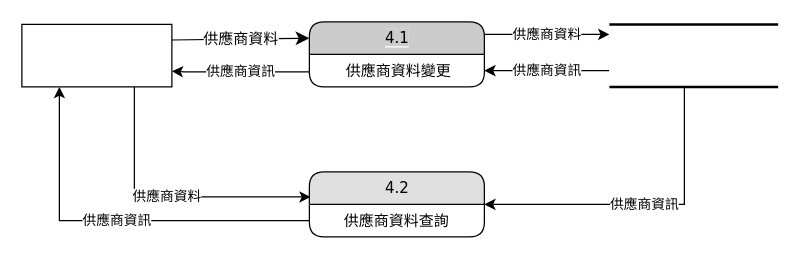
The diagram is 801 pixels wide and 263 high, and some of its shapes have lost their labels. The centre of each missing label's shape, as x and y in pixels:
供應商資料庫: the point at 693,55
溫室管理者: the point at 96,55
